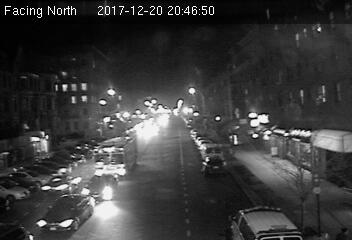bus: (93, 136, 138, 178)
car: (32, 192, 96, 231), (82, 174, 120, 204), (41, 175, 82, 196), (202, 155, 226, 176)
police: (226, 202, 305, 240)
